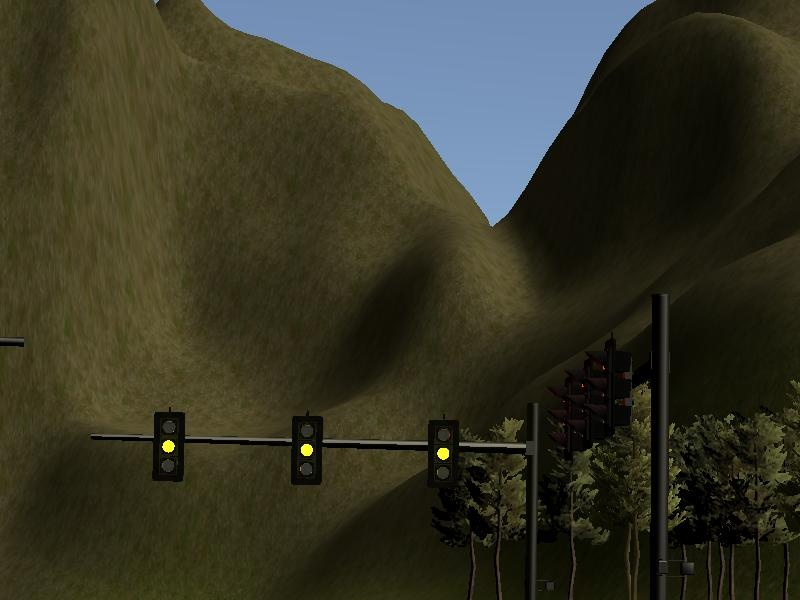YELLOW: (152, 410, 185, 480), (291, 414, 323, 486), (425, 418, 457, 490)
